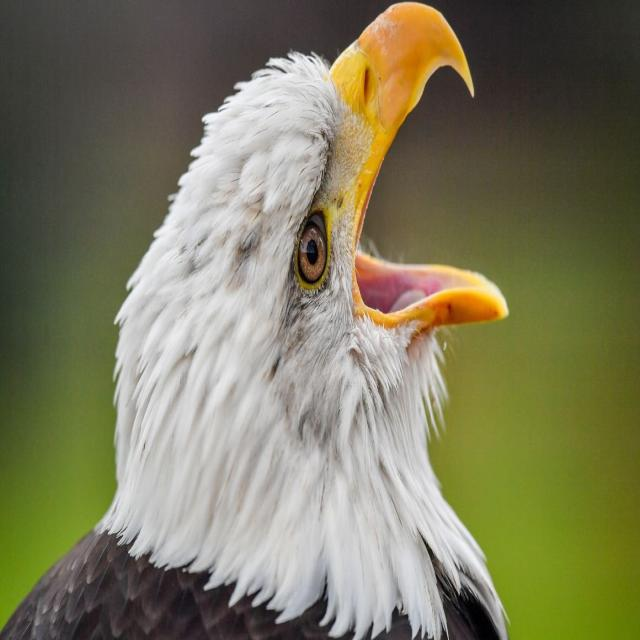Eagle: (76, 5, 507, 640)
